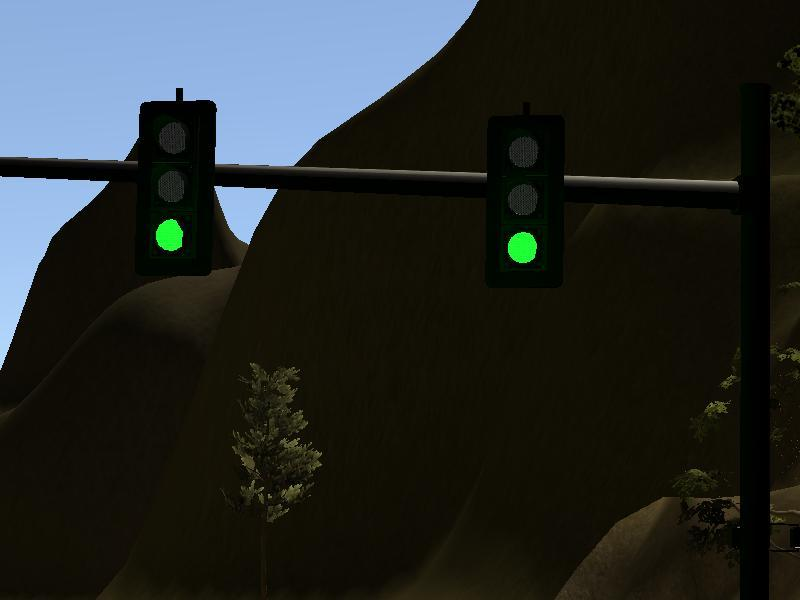Green: (137, 101, 214, 276), (485, 112, 562, 287)
